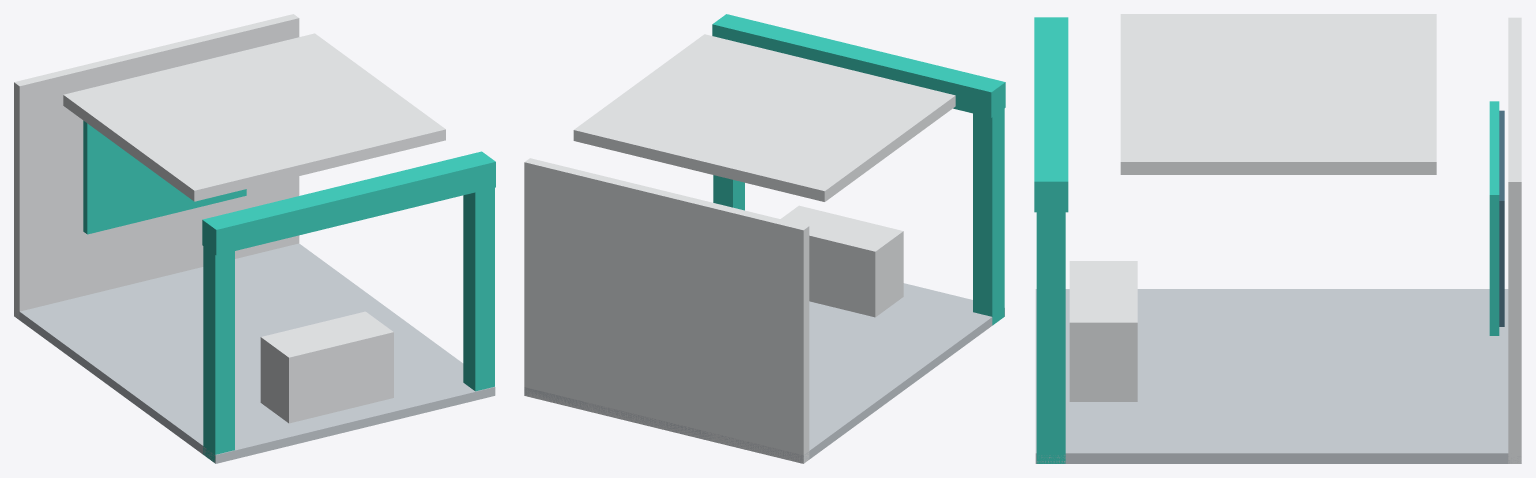
The picture shows the model from 3 angles, left to right: view 1: azimuth 30°, elevation 25°; view 2: azimuth 150°, elevation 25°; view 3: azimuth 270°, elevation 25°; orthographic projection. The views are drawn at different scales.
Visible parts, largest first — view 1: Exhibition Booth Concept; view 2: Exhibition Booth Concept; view 3: Exhibition Booth Concept.
Boxes of the visible parts, left/top/right/bottom form: Exhibition Booth Concept: left=14, top=14, right=495, bottom=463; Exhibition Booth Concept: left=524, top=14, right=1005, bottom=463; Exhibition Booth Concept: left=1034, top=14, right=1521, bottom=463.
Bounding box in the file's own units: 4 × 3.34 × 5.02.
